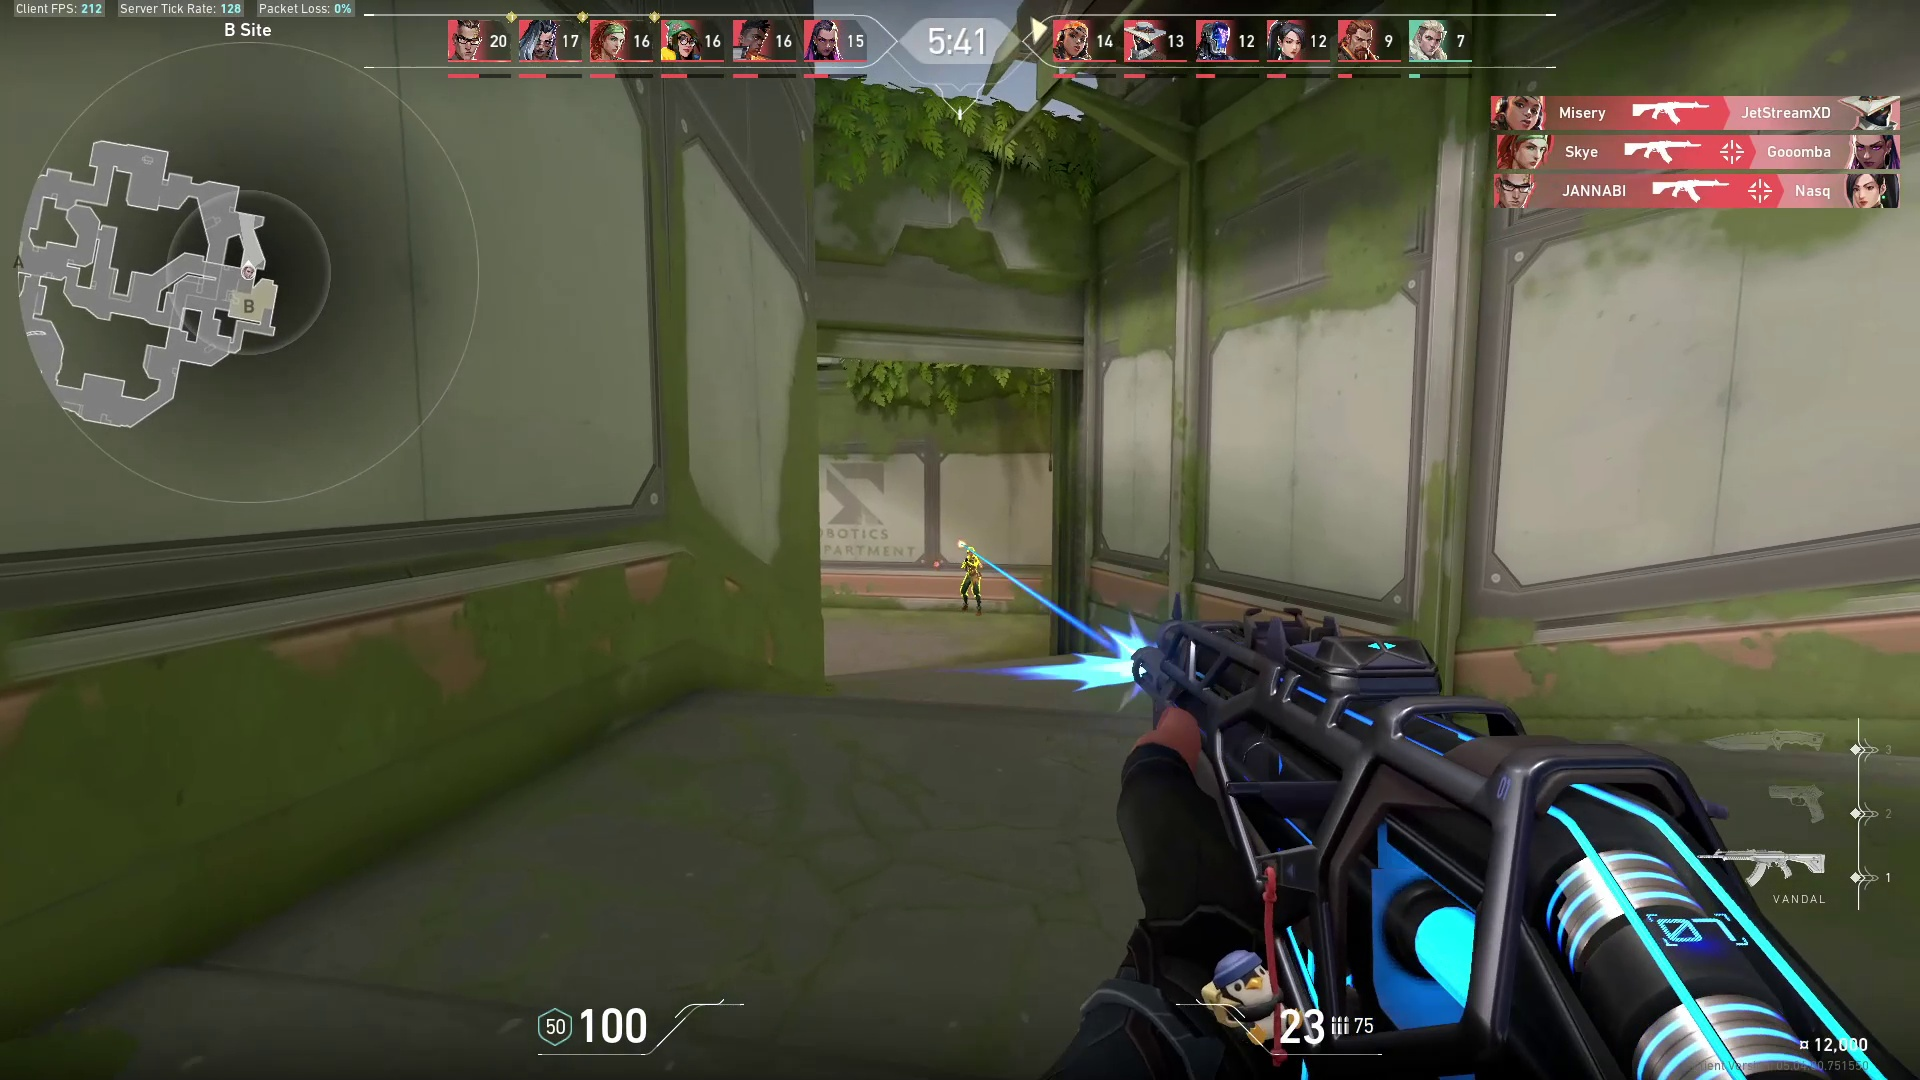enemy_body: (959, 556, 984, 617)
enemy_head: (967, 545, 977, 558)
